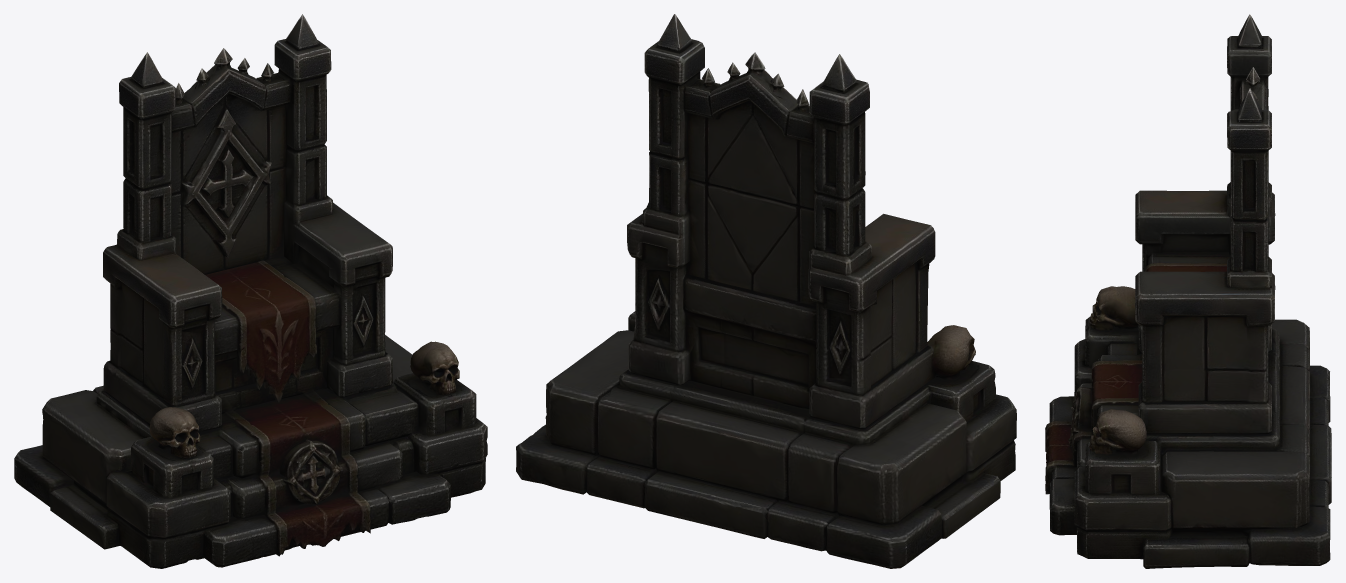
File: Throne.fbx
3 renders of one model, left to right at view 1: azimuth 30°, elevation 25°; view 2: azimuth 150°, elevation 25°; view 3: azimuth 270°, elevation 25°, orthographic. The views are drawn at different scales.
Parts seen in each view (by area): view 1: Throne; view 2: Throne; view 3: Throne.
Boxes of the visible parts, x1,y1,x2,y2 form: Throne: (14, 14, 487, 568); Throne: (516, 14, 1016, 568); Throne: (1045, 14, 1331, 568).
Size of the model in its own units: 260 by 294 by 179.
Materials: 1 (1 with a texture image).
